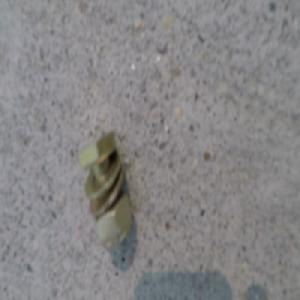BoltNutSet: (73, 128, 128, 242)
